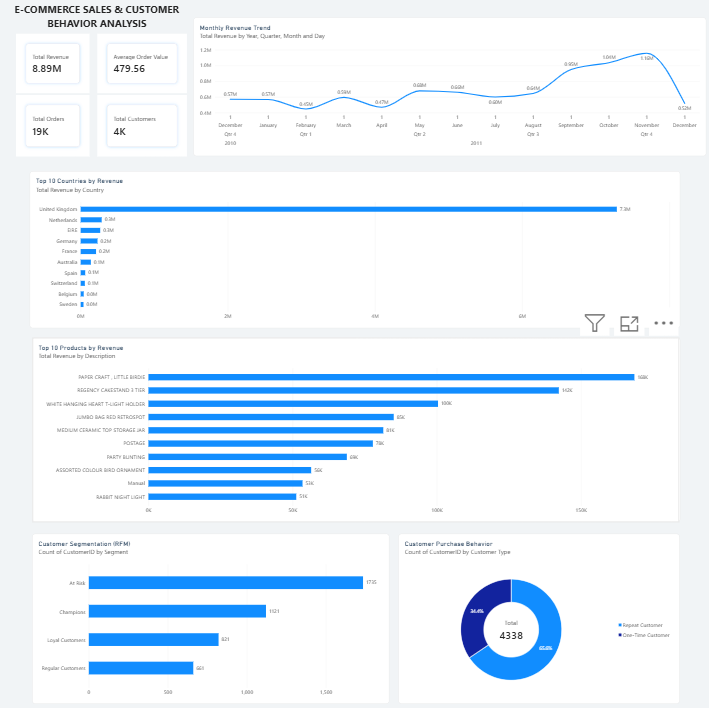

This screenshot's page, from the dashboard's own definition file:
{"tool":"powerbi","page":{"name":"Page 1","canvas":[1920,1920],"ordinal":0},"visuals":[{"type":"cardVisual","fields":{"Data":["cleaned_online_retail.Total Revenue"]},"box":[53.5,102.9,216.1,158.5],"z":0},{"type":"lineChart","title":"Monthly Revenue Trend","fields":{"Category":["cleaned_online_retail.YearMonth.Variation.Date Hierarchy.Year","cleaned_online_retail.YearMonth.Variation.Date Hierarchy.Quarter","cleaned_online_retail.YearMonth.Variation.Date Hierarchy.Month","cleaned_online_retail.YearMonth.Variation.Date Hierarchy.Day"],"Y":["cleaned_online_retail.Total Revenue"]},"box":[527.6,61.1,1367.3,370],"z":1000},{"type":"clusteredBarChart","title":"Top 10 Countries by Revenue","fields":{"Category":["cleaned_online_retail.Country"],"Y":["cleaned_online_retail.Total Revenue"]},"box":[90.1,469.7,1734.1,418.2],"z":2000},{"type":"clusteredBarChart","title":"Top 10 Products by Revenue","fields":{"Category":["cleaned_online_retail.Description"],"Y":["cleaned_online_retail.Total Revenue"]},"box":[96.5,913.7,1727.6,492.2],"z":3000},{"type":"donutChart","title":"Customer Purchase Behavior","fields":{"Category":["cleaned_online_retail.Customer Type"],"Y":["Count(cleaned_online_retail.CustomerID)"]},"box":[1074.5,1438.1,749.6,453.6],"z":4000},{"type":"textbox","box":[0,20.6,496.1,82.3],"z":5000},{"type":"cardVisual","fields":{"Data":["cleaned_online_retail.Total Orders"]},"box":[53.5,267.6,216.1,164.7],"z":6000},{"type":"cardVisual","fields":{"Data":["cleaned_online_retail.Total Customers"]},"box":[269.6,267.6,259.3,164.7],"z":7000},{"type":"cardVisual","fields":{"Data":["cleaned_online_retail.Average Order Value"]},"box":[269.6,102.9,259.3,158.5],"z":8000},{"type":"clusteredBarChart","title":"Customer Segmentation (RFM)","fields":{"Category":["customer_rfm.Segment"],"Y":["Count(customer_rfm.CustomerID)"]},"box":[96.5,1438.1,952.3,453.6],"z":8001}]}

Visuals, with their boxes in screenshot pixels (x1, y1, x2, y2), scaled from the page's 1920x1920 canvas onto the 709x708 screenshot:
cardVisual - cleaned_online_retail.Total Revenue: (left=20, top=38, right=100, bottom=96)
"Monthly Revenue Trend" lineChart: (left=195, top=23, right=700, bottom=159)
"Top 10 Countries by Revenue" clusteredBarChart: (left=33, top=173, right=674, bottom=327)
"Top 10 Products by Revenue" clusteredBarChart: (left=36, top=337, right=674, bottom=518)
"Customer Purchase Behavior" donutChart: (left=397, top=530, right=674, bottom=698)
textbox: (left=0, top=8, right=183, bottom=38)
cardVisual - cleaned_online_retail.Total Orders: (left=20, top=99, right=100, bottom=159)
cardVisual - cleaned_online_retail.Total Customers: (left=100, top=99, right=195, bottom=159)
cardVisual - cleaned_online_retail.Average Order Value: (left=100, top=38, right=195, bottom=96)
"Customer Segmentation (RFM)" clusteredBarChart: (left=36, top=530, right=387, bottom=698)
